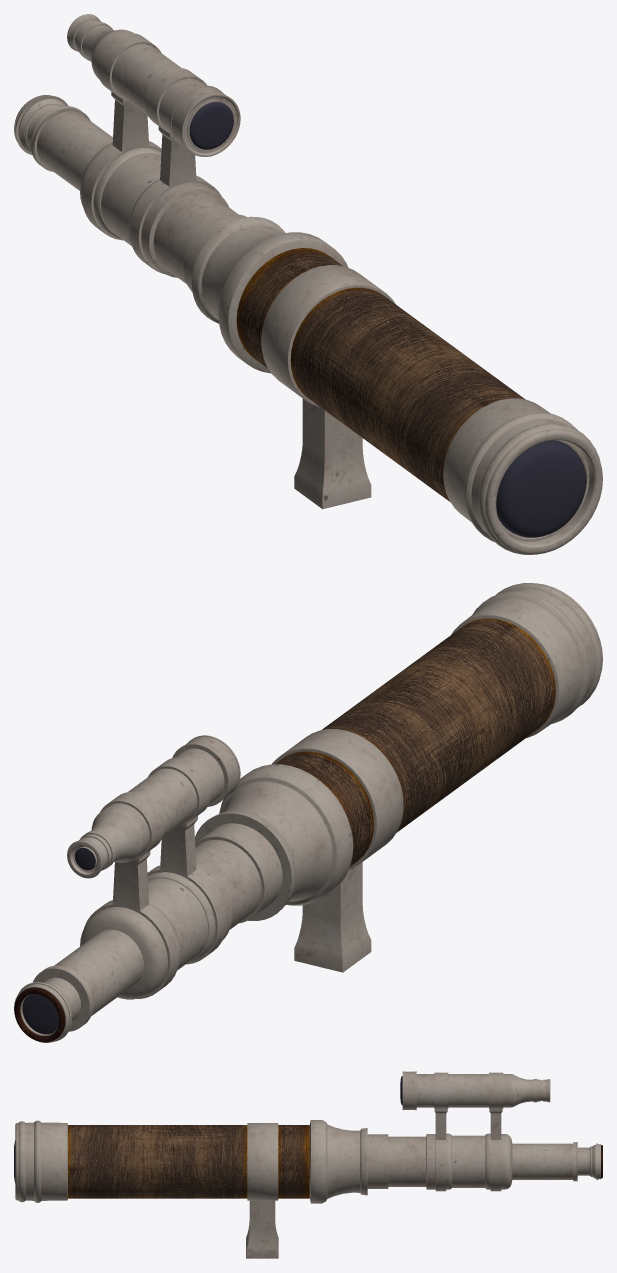
File: vintage_telescope.glb
3 renders of one model, top to bottom at view 1: azimuth 30°, elevation 25°; view 2: azimuth 150°, elevation 25°; view 3: azimuth 270°, elevation 25°, orthographic. The views are drawn at different scales.
Parts seen in each view (by area): view 1: Telescope_0; view 2: Telescope_0; view 3: Telescope_0.
Boxes of the visible parts, x1,y1,x2,y2 form: Telescope_0: [14, 14, 602, 554]; Telescope_0: [14, 583, 602, 1042]; Telescope_0: [14, 1071, 602, 1258].
Size of the model in its own units: 0.2137 by 0.5035 by 1.5.
1 material, 1 textured.
